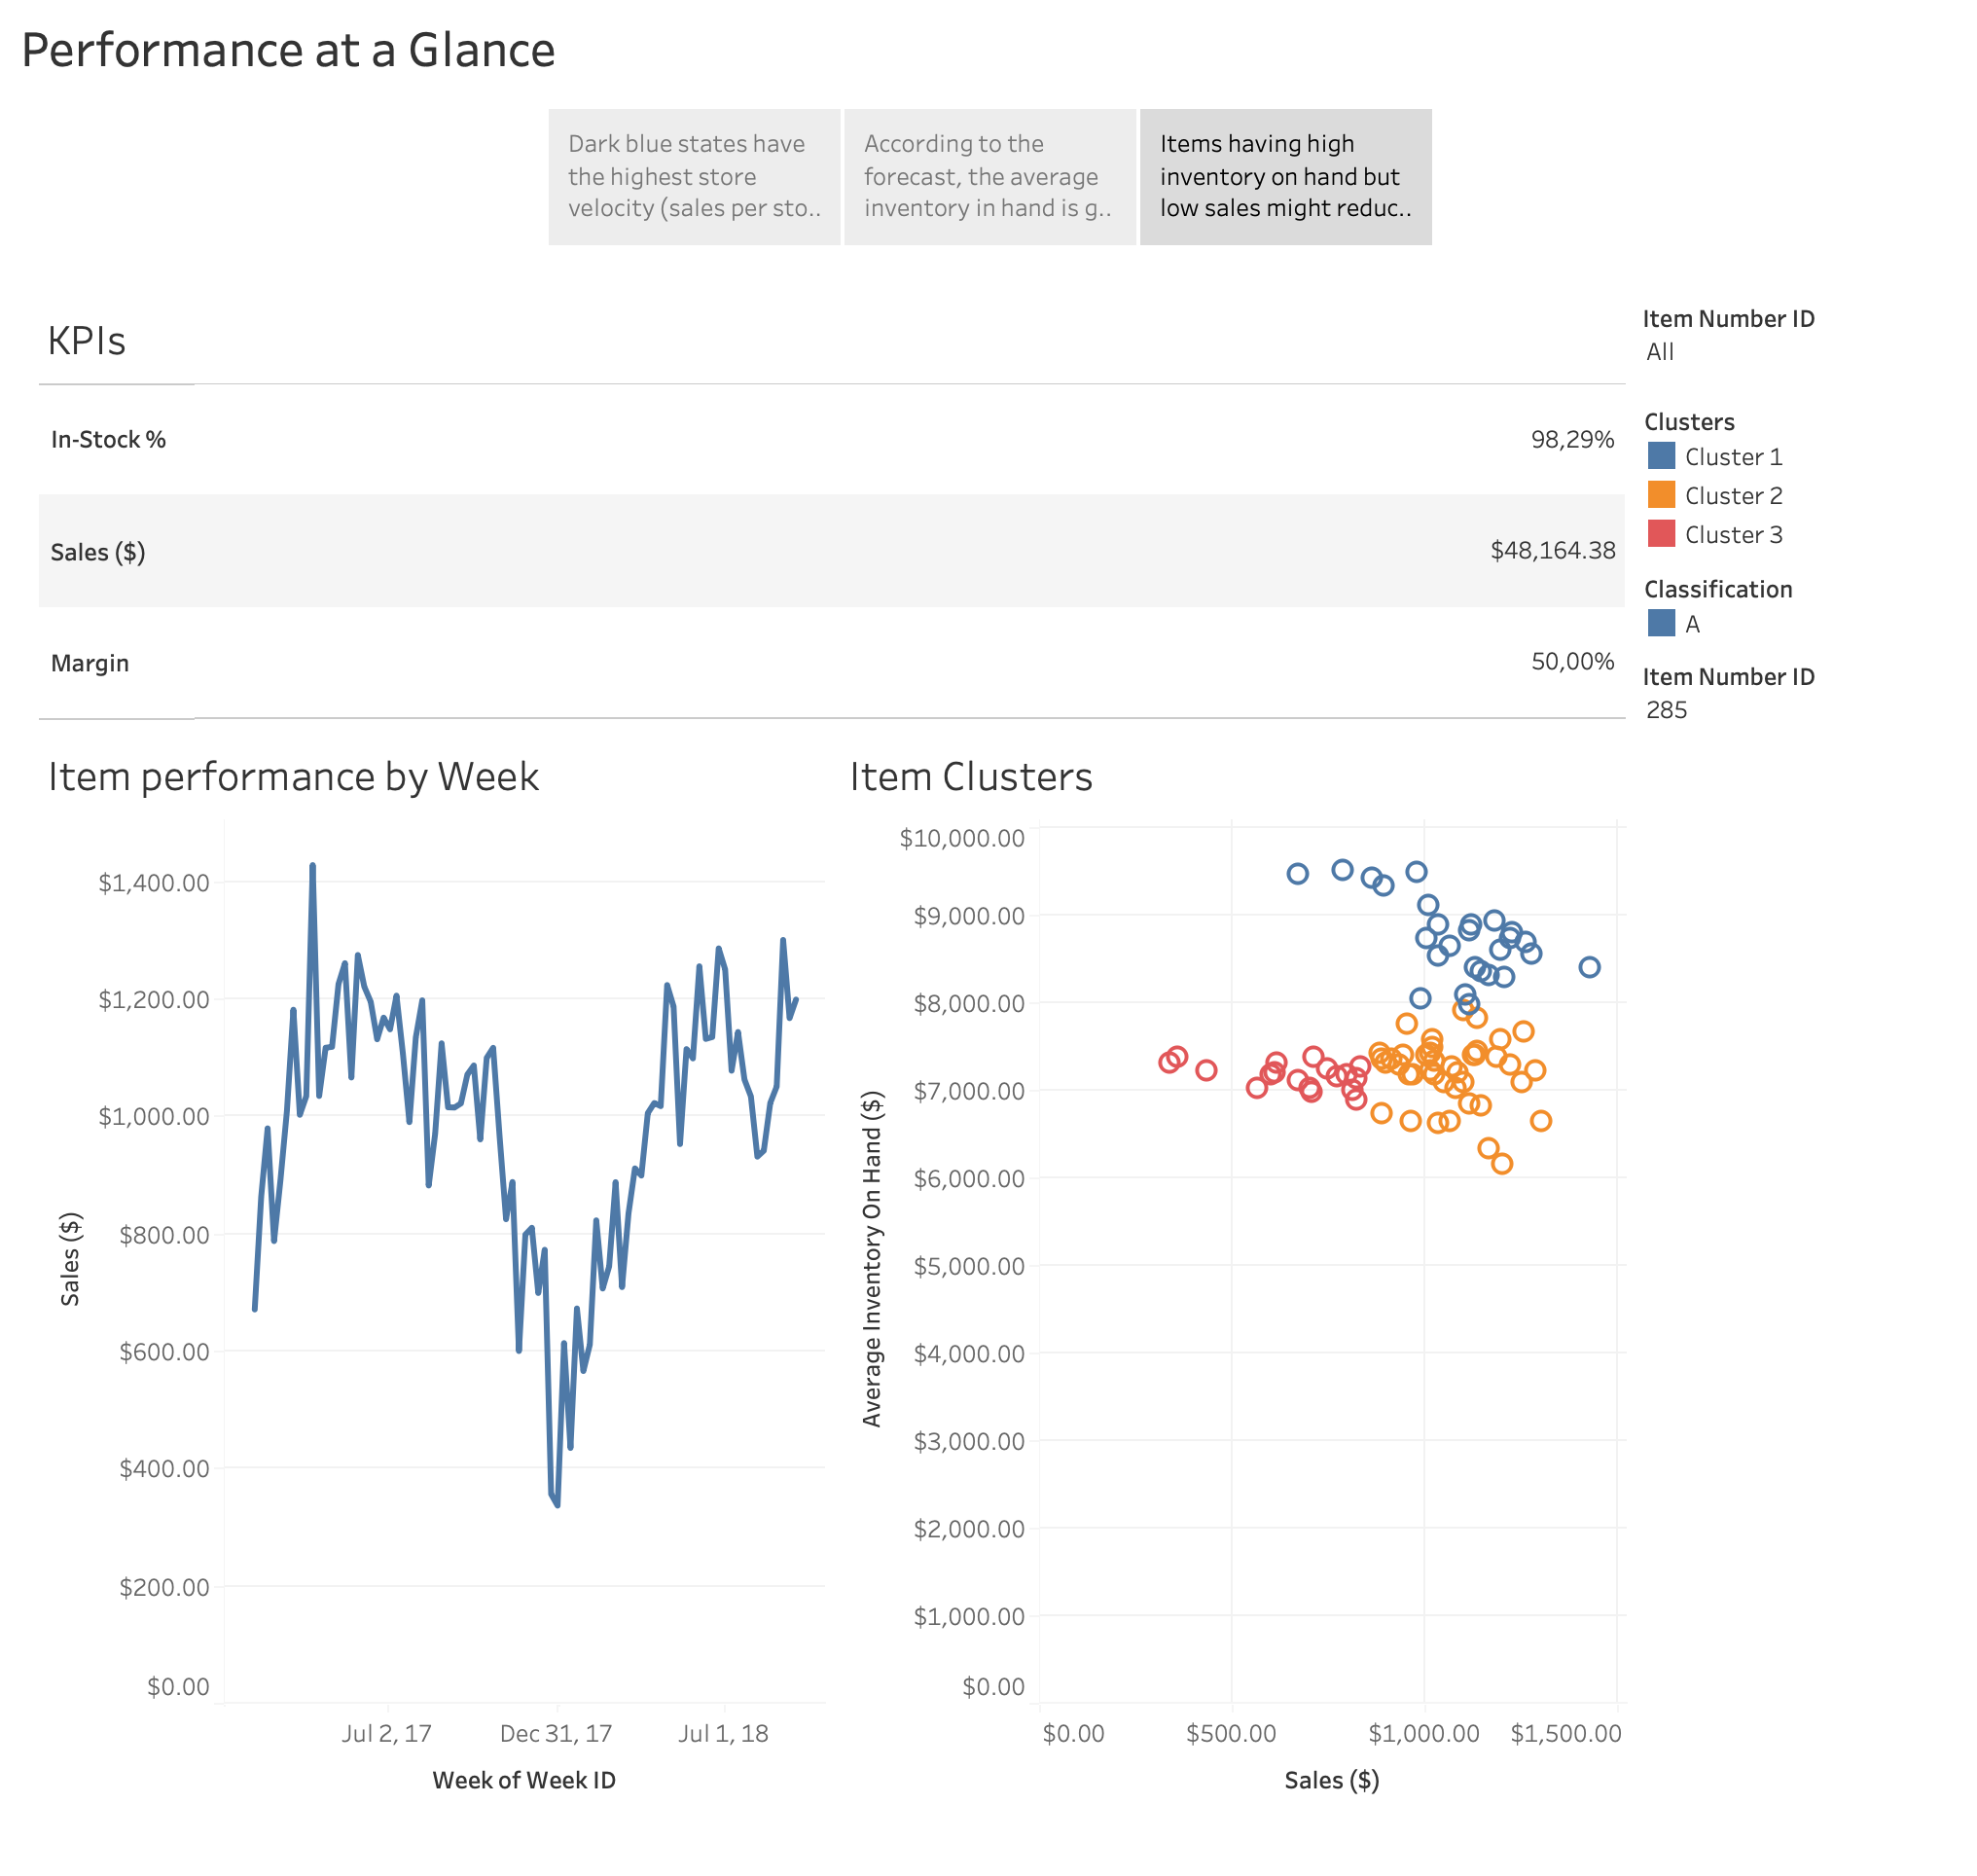

Layout of this report page (visuals, bound fields, positions):
{"tool":"tableau","page":{"name":"Item Performance","canvas":[1000,800],"ordinal":0},"visuals":[{"type":"worksheet","title":"KPI 2","mark":"Automatic","box":[8,8,824,224]},{"type":"filter","title":"Item Clusters","param":"[federated.14cjw921thnt6q15we8bi1tz5f0t].[none:Item Number ID:nk]","box":[832,8,160,52]},{"type":"legend","title":"Item Clusters","param":"[federated.14cjw921thnt6q15we8bi1tz5f0t].[none:AdhocCluster:1:ok]","box":[832,60,160,66]},{"type":"legend","title":"Sheet 12","param":"[federated.1tcmah61hcjdao0zsqtpu1oh8hsa].[none:Classification:nk]","box":[832,126,160,106]},{"type":"worksheet","title":"Sheet 12","mark":"Automatic","rows":["Sales ($)"],"cols":["Week ID"],"box":[8,232,412,560]},{"type":"worksheet","title":"Item Clusters","mark":"Automatic","rows":["Average Inventory On Hand ($)"],"cols":["Sales ($)"],"box":[420,232,412,560]},{"type":"filter","title":"KPI 2","param":"[federated.1tcmah61hcjdao0zsqtpu1oh8hsa].[none:Item Number ID:nk]","box":[832,232,160,52]}]}

Visuals, with their boxes on the page's 1000x800 design canvas (x1, y1, x2, y2). These are canvas units, not pixel positions in the 1977x1876 screenshot, which may show the page scaled, cropped or inside an application window:
"KPI 2" worksheet: (8, 8, 832, 232)
"Item Clusters" filter: (832, 8, 992, 60)
"Item Clusters" legend: (832, 60, 992, 126)
"Sheet 12" legend: (832, 126, 992, 232)
"Sheet 12" worksheet: (8, 232, 420, 792)
"Item Clusters" worksheet: (420, 232, 832, 792)
"KPI 2" filter: (832, 232, 992, 284)
